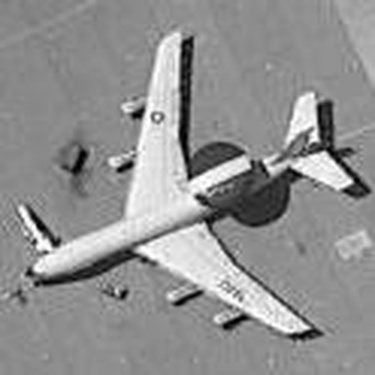airplane: (1, 10, 361, 352)
